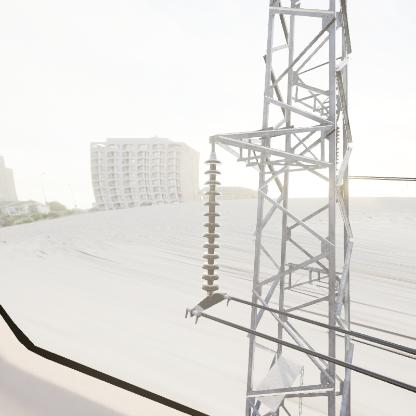insulator: (202, 155, 223, 299)
